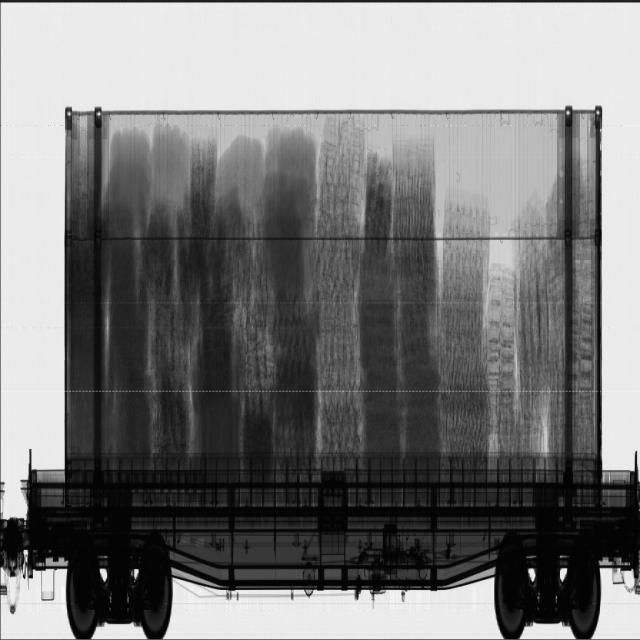textiles: (68, 123, 596, 448)
